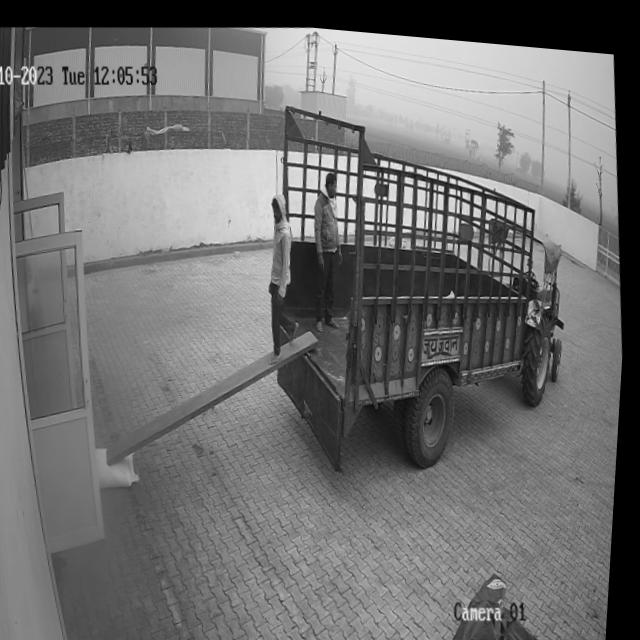sack: (98, 440, 146, 490)
